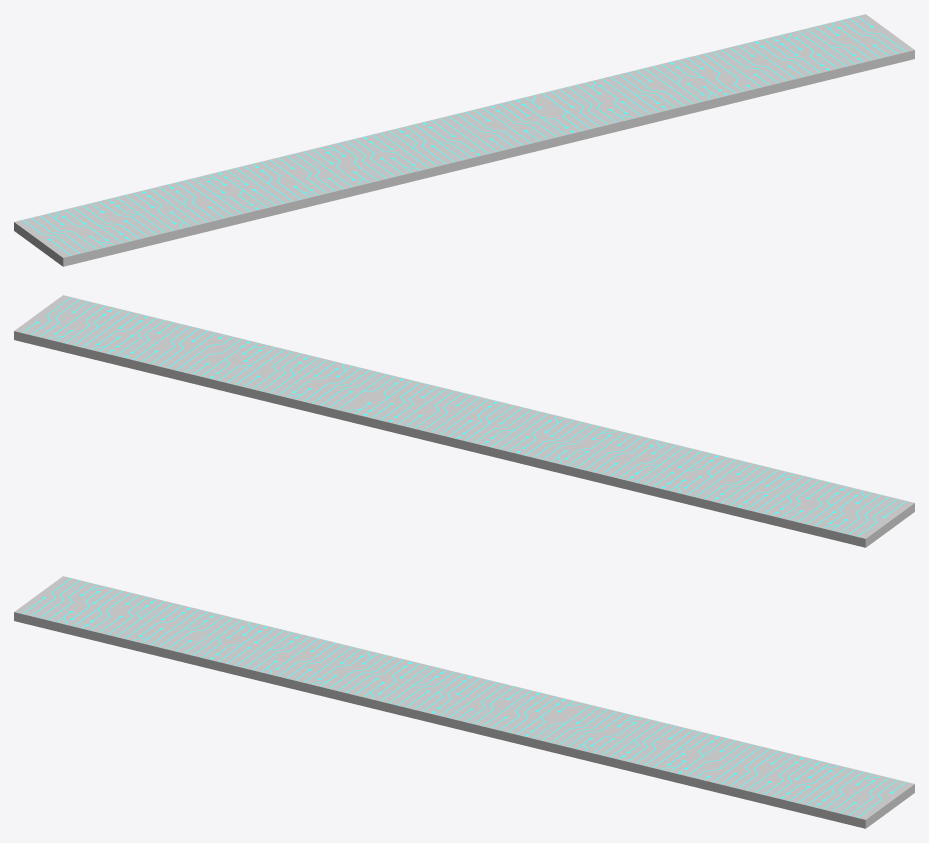
File: floor_metallic_clear.glb
The picture shows the model from 3 angles, top to bottom: view 1: azimuth 30°, elevation 25°; view 2: azimuth 150°, elevation 25°; view 3: azimuth 330°, elevation 25°; orthographic projection.
Visible parts, largest first — view 1: Cube, StraightLine.010; view 2: Cube, StraightLine.010; view 3: Cube, StraightLine.010.
Boxes of the visible parts, x1,y1,x2,y2 form: Cube: (14,14,914,266); StraightLine.010: (22,16,906,255); Cube: (14,295,914,547); StraightLine.010: (22,297,906,536); Cube: (14,576,914,828); StraightLine.010: (22,578,906,817).
Bounding box in the file's own units: 200 × 2.01 × 20.04.
